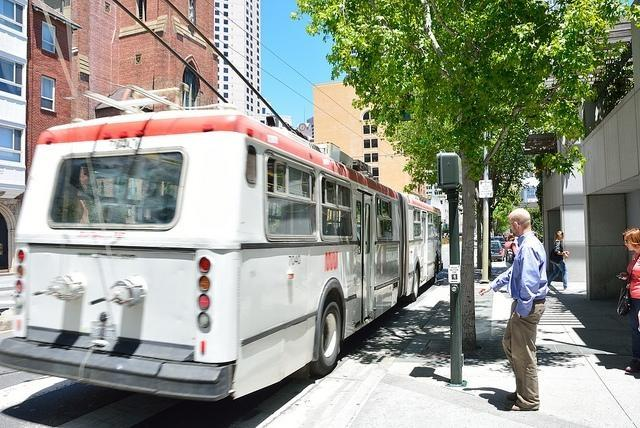bus: (1, 108, 402, 412)
